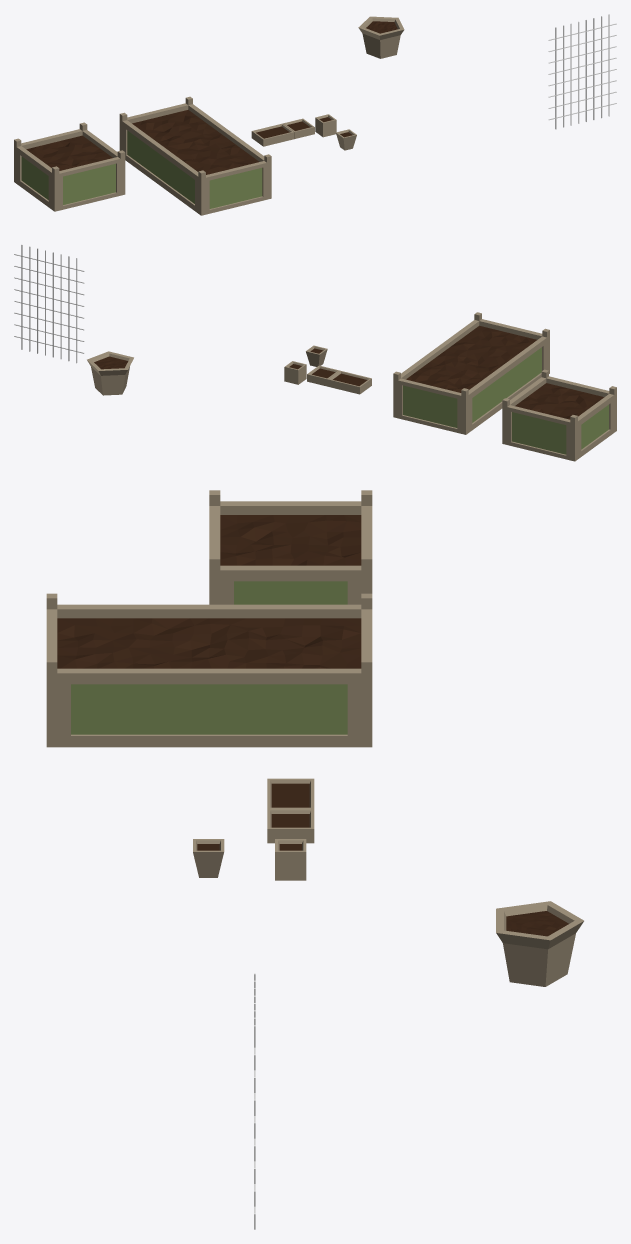
File: Containers.fbx
The picture shows the model from 3 angles, top to bottom: view 1: azimuth 30°, elevation 25°; view 2: azimuth 150°, elevation 25°; view 3: azimuth 270°, elevation 25°; orthographic projection. The views are drawn at different scales.
Parts seen in each view (by area): view 1: Planter 2, Planter 1, Trellis, Large Pot 1, Small Pot 3, Small Pot 1, Small Pot 2, Small Pot 4; view 2: Planter 2, Planter 1, Trellis, Large Pot 1, Small Pot 3, Small Pot 1, Small Pot 2, Small Pot 4; view 3: Planter 2, Planter 1, Large Pot 1, Small Pot 2, Small Pot 3, Small Pot 1, Small Pot 4.
Part boxes in pixels (x1,y1,x2,y2): Planter 2: [119, 96, 271, 215]; Planter 1: [14, 122, 125, 211]; Trellis: [548, 14, 616, 129]; Large Pot 1: [358, 16, 404, 58]; Small Pot 3: [251, 123, 294, 146]; Small Pot 1: [315, 114, 336, 137]; Small Pot 2: [283, 118, 314, 138]; Small Pot 4: [336, 129, 356, 150]; Planter 2: [393, 312, 549, 434]; Planter 1: [502, 369, 616, 461]; Trellis: [14, 244, 84, 363]; Large Pot 1: [87, 351, 133, 395]; Small Pot 3: [328, 370, 371, 394]; Small Pot 1: [284, 361, 306, 384]; Small Pot 2: [307, 365, 339, 386]; Small Pot 4: [306, 345, 327, 366]; Planter 2: [46, 593, 372, 747]; Planter 1: [209, 490, 372, 604]; Large Pot 1: [496, 901, 583, 986]; Small Pot 2: [267, 809, 314, 843]; Small Pot 3: [267, 778, 314, 808]; Small Pot 1: [275, 839, 306, 880]; Small Pot 4: [193, 839, 224, 877].
Size of the model in its own units: 2114 by 360 by 859.
